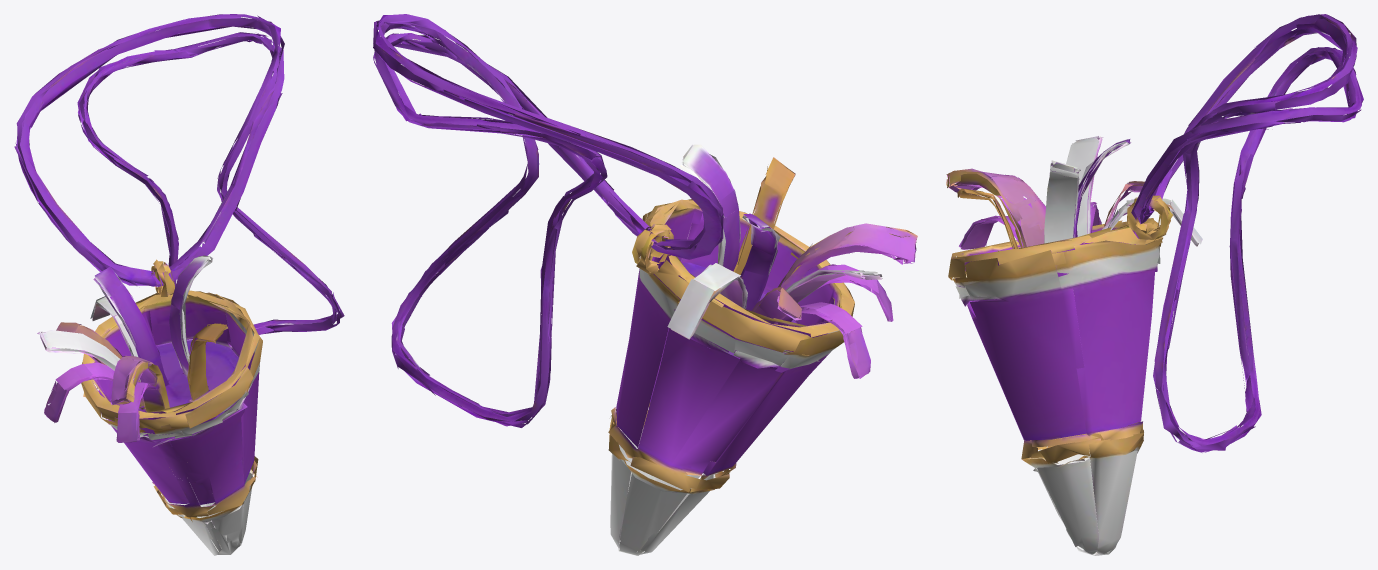
Rendered from gear_party_necklace.glb.
The picture shows the model from 3 angles, left to right: view 1: azimuth 30°, elevation 25°; view 2: azimuth 150°, elevation 25°; view 3: azimuth 270°, elevation 25°; orthographic projection. The views are drawn at different scales.
Visible parts, largest first — view 1: gear_party_necklace; view 2: gear_party_necklace; view 3: gear_party_necklace.
Boxes of the visible parts, left/top/right/bottom form: gear_party_necklace: left=14, top=14, right=344, bottom=555; gear_party_necklace: left=373, top=14, right=917, bottom=555; gear_party_necklace: left=946, top=14, right=1363, bottom=555.
Bounding box in the file's own units: 0.3977 × 0.5016 × 0.3569.
Materials: 1 (1 with a texture image).
